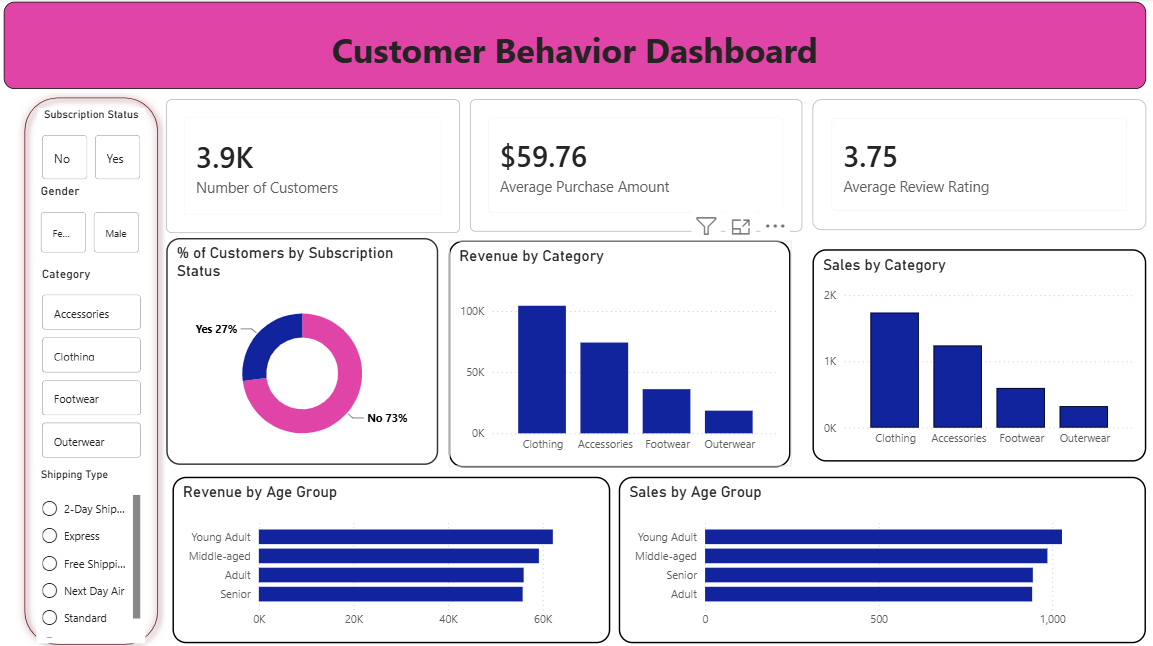

Layout of this report page (visuals, bound fields, positions):
{"tool":"powerbi","page":{"name":"Customer Behavior Dashboard","canvas":[1280,720],"ordinal":0},"visuals":[{"type":"textbox","box":[4.1,4.1,1256.9,96.3],"z":0},{"type":"cardVisual","title":"Number of Customers","fields":{"Data":["CountNonNull(customer_behavior customer.customer_id)"]},"box":[182.9,111.4,323.2,147.1],"z":1000},{"type":"cardVisual","fields":{"Data":["Avg(customer_behavior customer.purchase_amount)"]},"box":[517.1,111.4,365.8,145.8],"z":2000},{"type":"cardVisual","fields":{"Data":["Avg(customer_behavior customer.review_rating)"]},"box":[893.9,111.4,367.2,144.4],"z":3000},{"type":"donutChart","title":"% of Customers by Subscription Status","fields":{"Category":["customer_behavior customer.subscription_status"],"Y":["CountNonNull(customer_behavior customer.customer_id)"]},"box":[182.9,264,299.1,249.7],"z":4000},{"type":"clusteredColumnChart","title":"Revenue by Category","fields":{"Category":["customer_behavior customer.category"],"Y":["Sum(customer_behavior customer.purchase_amount)"]},"box":[494,266.2,376,249.7],"z":5000},{"type":"clusteredColumnChart","title":"Sales by Category","fields":{"Category":["customer_behavior customer.category"],"Y":["CountNonNull(customer_behavior customer.customer_id)"]},"box":[893.9,276.4,367.2,233.8],"z":6000},{"type":"clusteredBarChart","title":"Revenue by Age Group","fields":{"Category":["customer_behavior customer.age_group"],"Y":["Sum(customer_behavior customer.purchase_amount)"]},"box":[189.8,526.7,481.3,182.9],"z":7000},{"type":"clusteredBarChart","title":"Sales by Age Group","fields":{"Category":["customer_behavior customer.age_group"],"Y":["CountNonNull(customer_behavior customer.customer_id)"]},"box":[680.7,526.7,580.3,182.9],"z":8000},{"type":"shape","box":[17.9,100.4,165,620.2],"z":9000},{"type":"advancedSlicerVisual","fields":{"Values":["customer_behavior customer.subscription_status"]},"box":[41.3,121,118.3,83.9],"z":10000},{"type":"advancedSlicerVisual","fields":{"Values":["customer_behavior customer.gender"]},"box":[39.9,204.9,119.6,81.1],"z":11000},{"type":"advancedSlicerVisual","fields":{"Values":["customer_behavior customer.category"]},"box":[41.3,295.7,119.6,218.7],"z":12000},{"type":"listSlicer","fields":{"Values":["customer_behavior customer.shipping_type"]},"box":[39.9,517.1,119.6,192.5],"z":13000}]}

Visuals, with their boxes in screenshot pixels (x1, y1, x2, y2), scaled from the page's 1280x720 canvas onto the 1153x646 screenshot:
textbox: (4,4,1136,90)
"Number of Customers" cardVisual: (165,100,456,232)
cardVisual - Avg(customer_behavior customer.purchase_amount): (466,100,795,231)
cardVisual - Avg(customer_behavior customer.review_rating): (805,100,1136,230)
"% of Customers by Subscription Status" donutChart: (165,237,434,461)
"Revenue by Category" clusteredColumnChart: (445,239,784,463)
"Sales by Category" clusteredColumnChart: (805,248,1136,458)
"Revenue by Age Group" clusteredBarChart: (171,473,605,637)
"Sales by Age Group" clusteredBarChart: (613,473,1136,637)
shape: (16,90,165,645)
advancedSlicerVisual - customer_behavior customer.subscription_status: (37,109,144,184)
advancedSlicerVisual - customer_behavior customer.gender: (36,184,144,257)
advancedSlicerVisual - customer_behavior customer.category: (37,265,145,462)
listSlicer - customer_behavior customer.shipping_type: (36,464,144,637)
